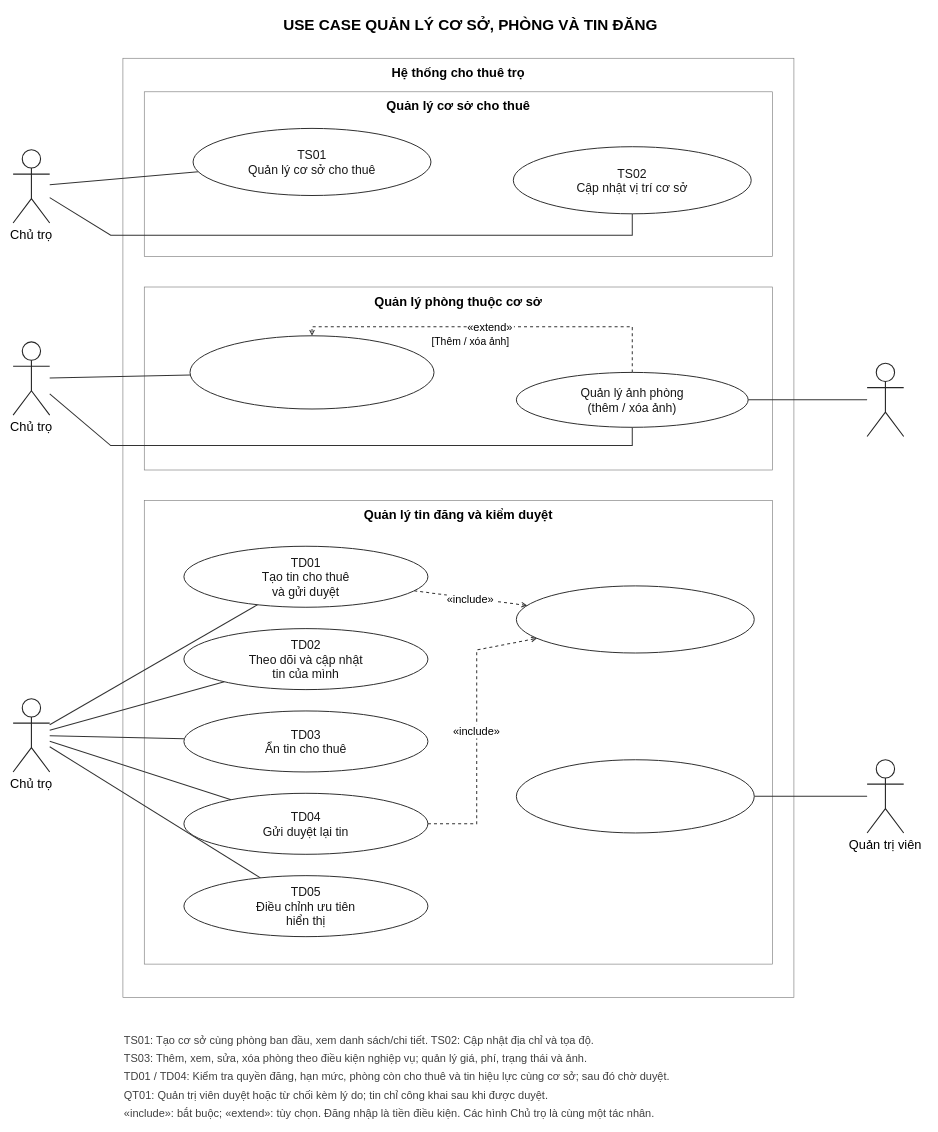
The diagram is 938 pixels wide and 1132 high, and some of its shapes have lost their labels. Here are the shapes that lost their labels. From the top down, the centre of each, then its label:
At (311,372): "TS03 Quản lý phòng thuộc cơ sở".
At (885,399): "Dịch vụ lưu trữ Cloudinary".
At (635,619): "Kiểm tra điều kiện đăng tin".
At (635,796): "QT01 Kiểm duyệt tin cho thuê (duyệt / từ chối)".
